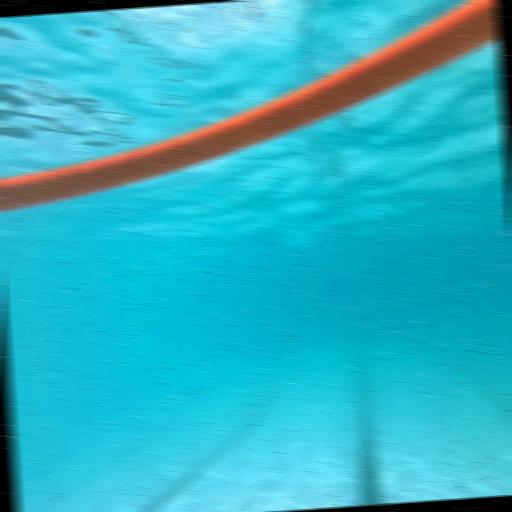upper_gate: (0, 0, 509, 214)
